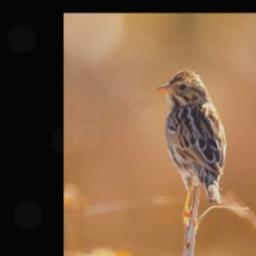Sparrow: (153, 67, 227, 229)
